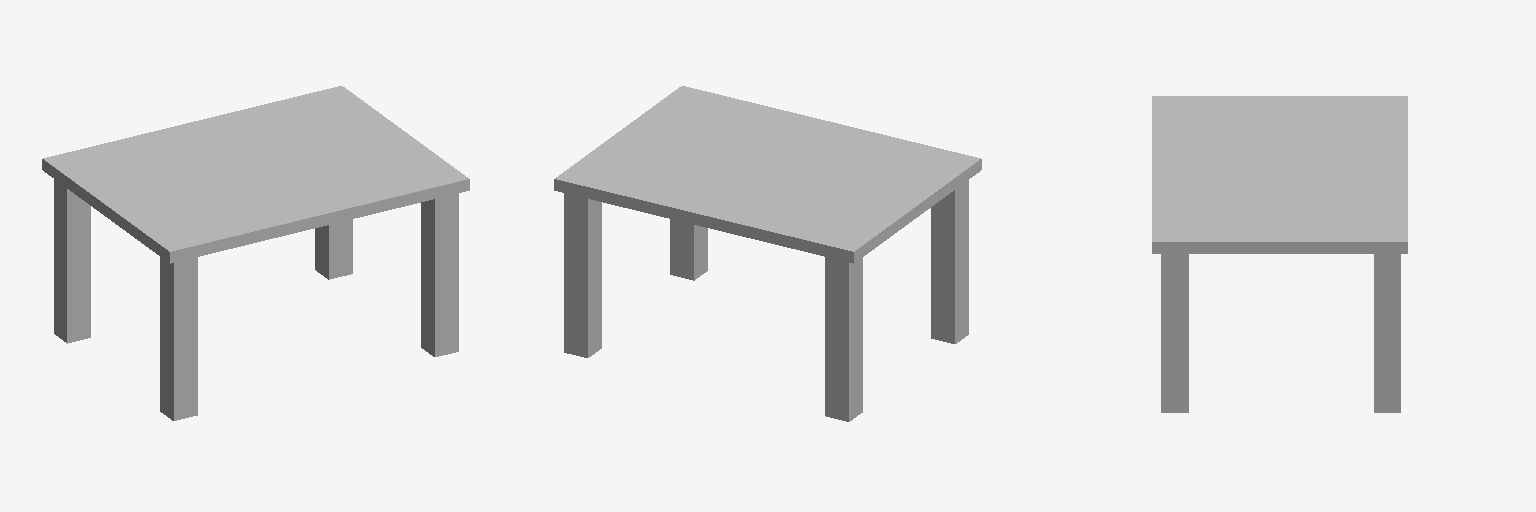
The model's file is mdl_platform.obj.
3 renders of one model, left to right at view 1: azimuth 30°, elevation 25°; view 2: azimuth 150°, elevation 25°; view 3: azimuth 270°, elevation 25°, orthographic.
Visible parts, largest first — view 1: Box005, Box004, Box003, Box001, Box002; view 2: Box005, Box001, Box002, Box004, Box003; view 3: Box005, Box003, Box002.
Boxes of the visible parts, x1=… form: Box005: x1=42, y1=86, x2=469, y2=263; Box004: x1=160, y1=257, x2=197, y2=420; Box003: x1=421, y1=193, x2=458, y2=356; Box001: x1=54, y1=179, x2=90, y2=343; Box002: x1=315, y1=219, x2=352, y2=279; Box005: x1=554, y1=86, x2=981, y2=263; Box001: x1=825, y1=257, x2=862, y2=421; Box002: x1=564, y1=193, x2=601, y2=357; Box004: x1=931, y1=180, x2=968, y2=343; Box003: x1=670, y1=219, x2=707, y2=280; Box005: x1=1152, y1=96, x2=1407, y2=253; Box003: x1=1161, y1=254, x2=1188, y2=412; Box002: x1=1374, y1=254, x2=1400, y2=412.
Size of the model in its own units: 1.63 by 0.9081 by 1.2.